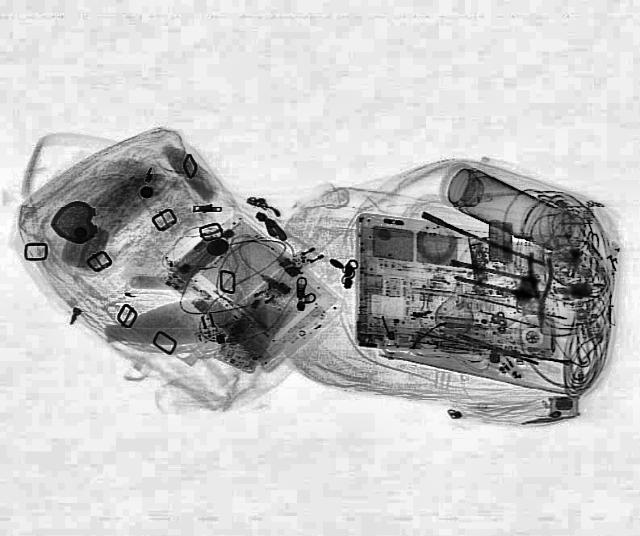Pliers: (526, 253, 554, 332)
